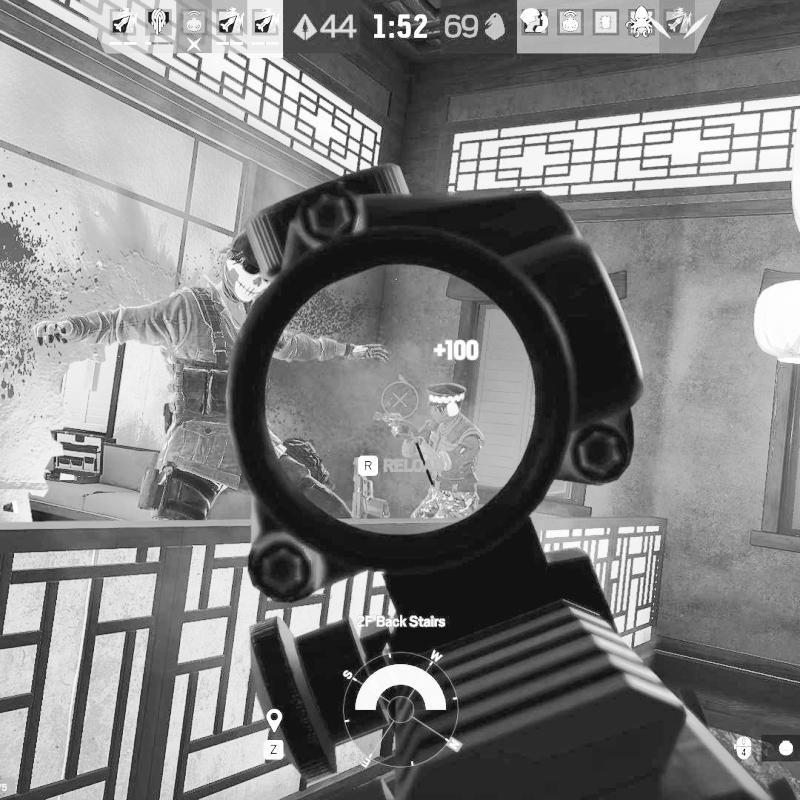Character: (32, 227, 395, 520), (394, 374, 491, 524)
Head: (218, 229, 273, 304), (427, 379, 466, 425)
